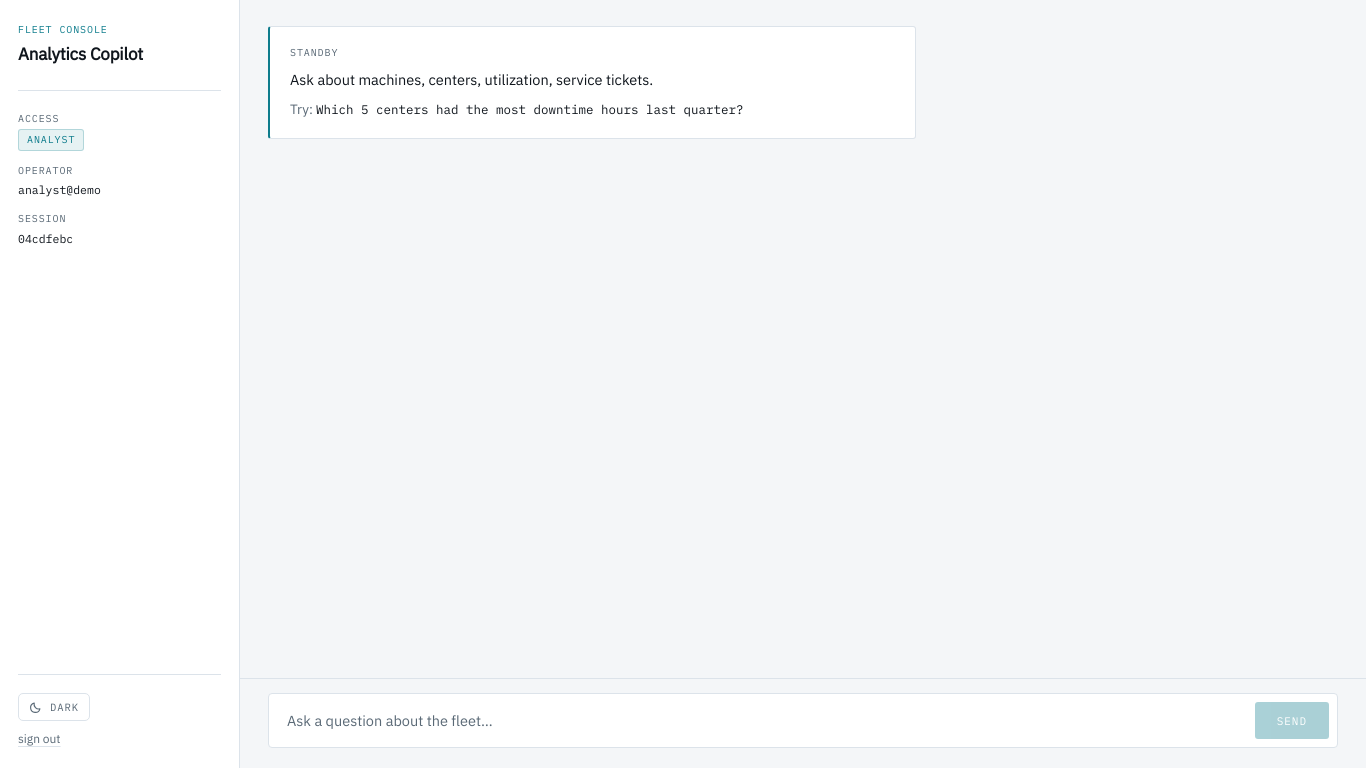
Test case: two fast clicks on the same feedback button send exactly one /feedback POST
This screenshot has width=1366, height=768.
In the field with placeholder "Ask a question about the fleet…": (761, 720) [277, 702, 1245, 739], type "how many machines are online"
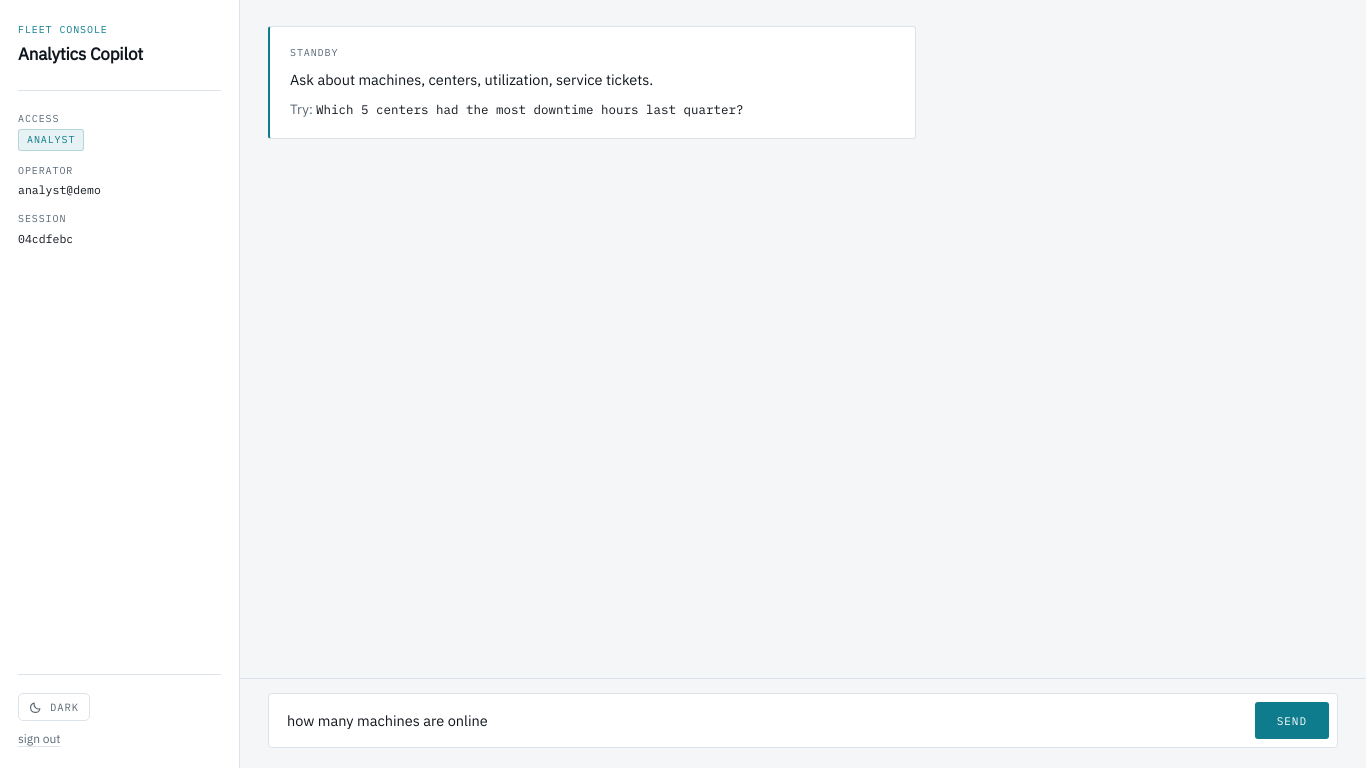
Click the button "Send": (1292, 720) [1255, 702, 1329, 739]
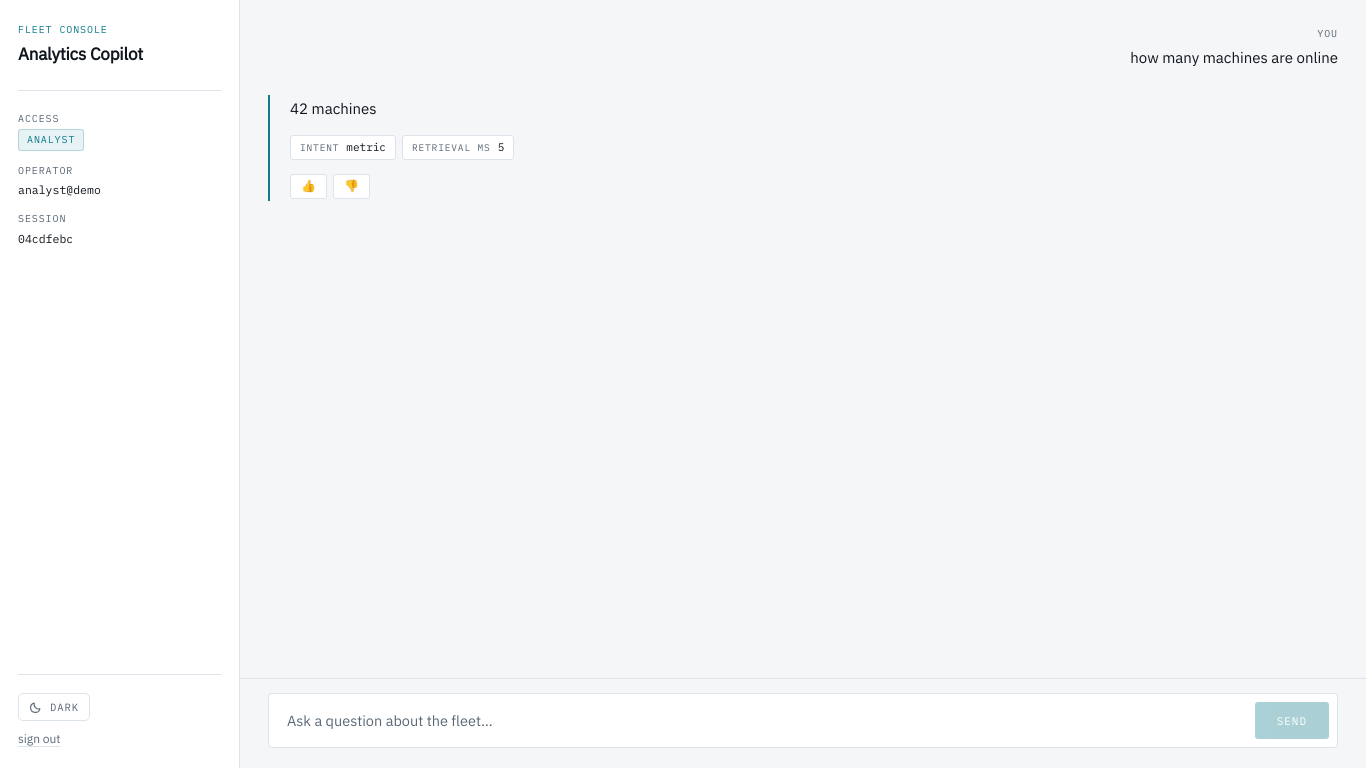
Result: the text "42 machines" is shown at [290, 99, 376, 118]
Click the button "👍": (308, 186) [290, 174, 327, 199]
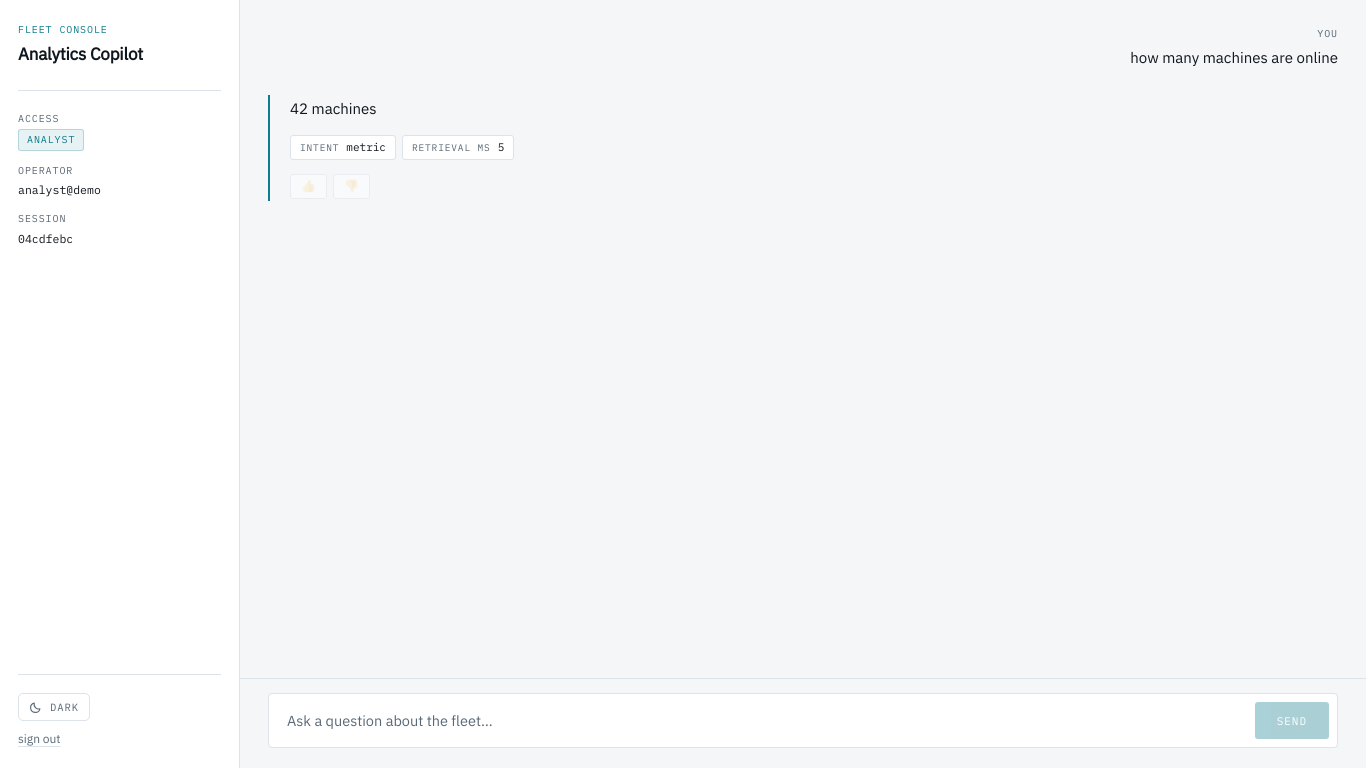
Click the button "👍": (308, 186) [290, 174, 327, 199]
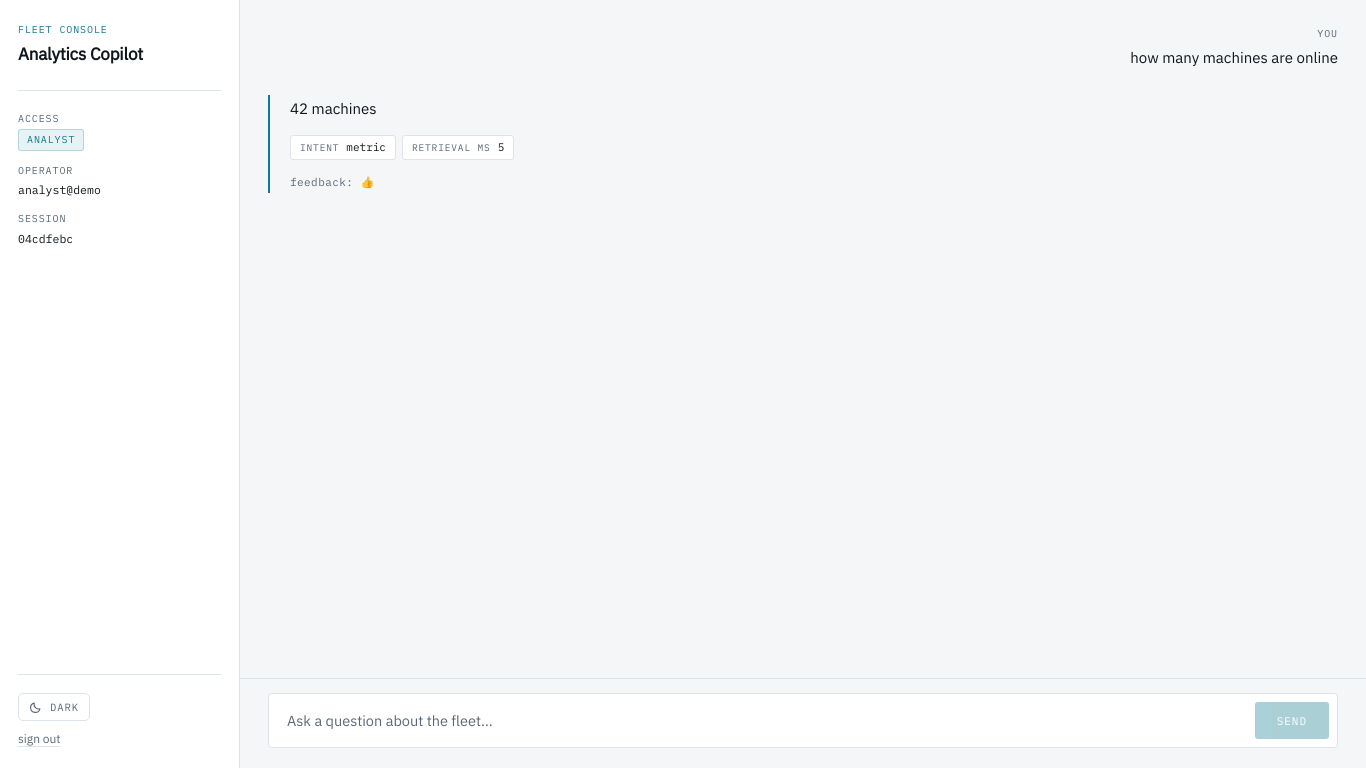
Result: the text "feedback: 👍" is shown at [290, 174, 375, 191]
